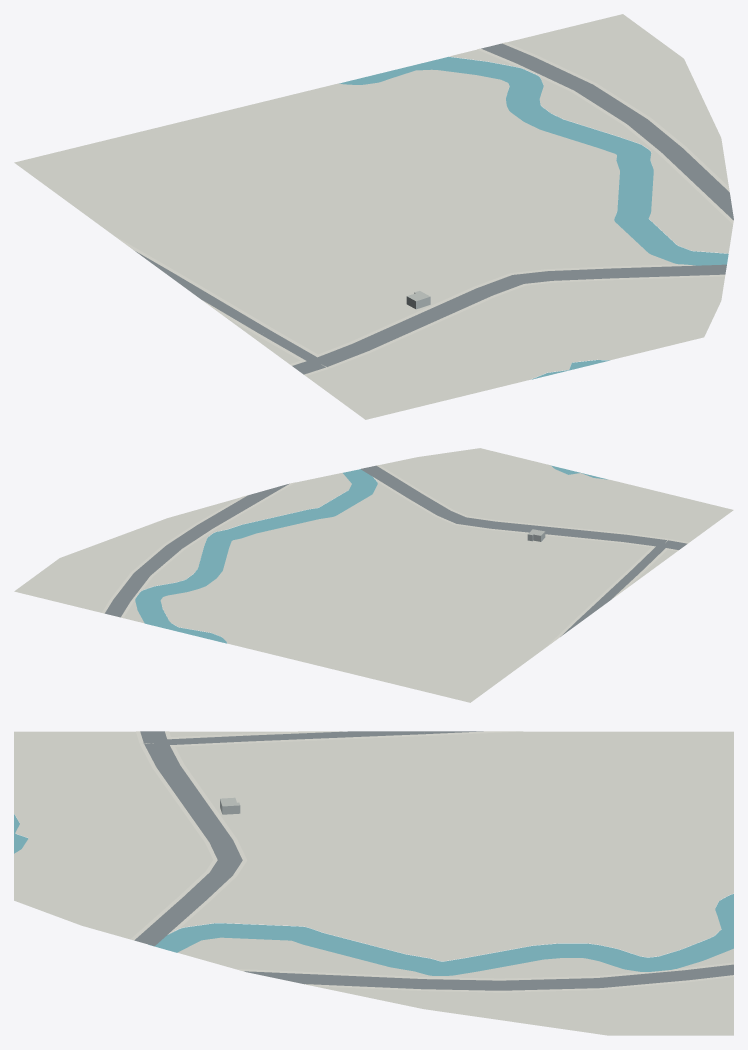
3 views of the same model, one above another, from view 1: azimuth 30°, elevation 25°; view 2: azimuth 150°, elevation 25°; view 3: azimuth 270°, elevation 25° (orthographic). The views are drawn at different scales.
Parts seen in each view (by area): view 1: city; view 2: city; view 3: city.
Part boxes in pixels (x1,y1,x2,y2): city: [14, 14, 733, 419]; city: [14, 448, 733, 702]; city: [14, 731, 733, 1035].
Bounding box in the file's own units: 500 × 6.58 × 500.
